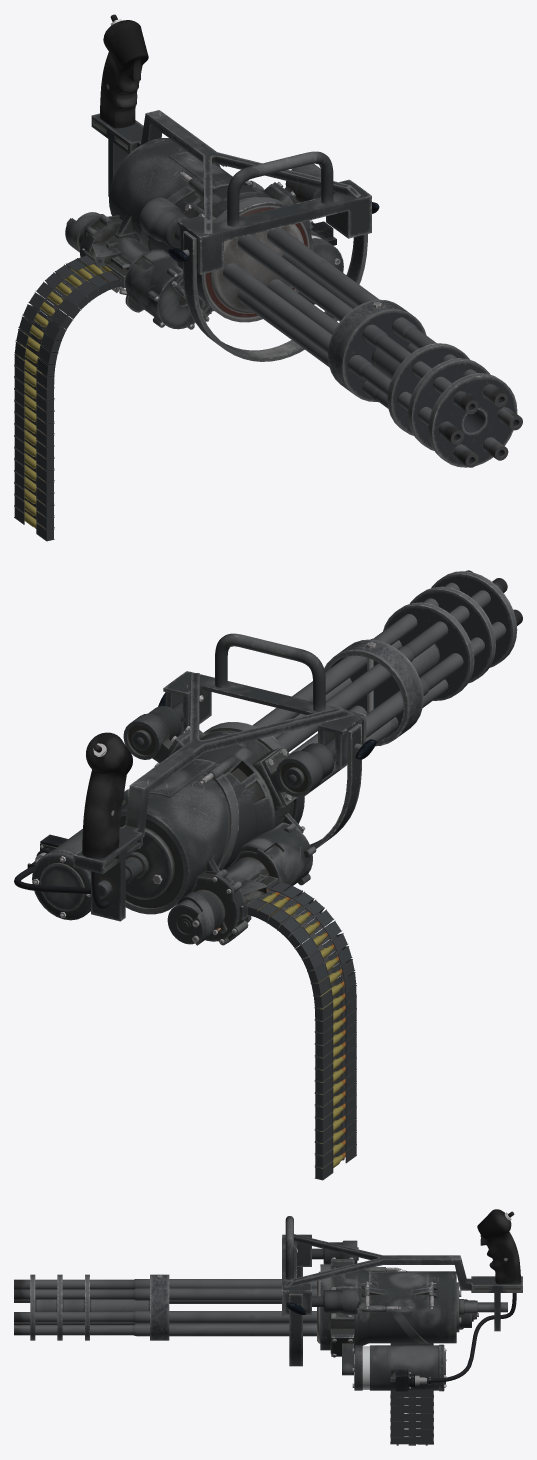
The model's file is minigun.glb.
The picture shows the model from 3 angles, top to bottom: view 1: azimuth 30°, elevation 25°; view 2: azimuth 150°, elevation 25°; view 3: azimuth 270°, elevation 25°; orthographic projection. The views are drawn at different scales.
Parts seen in each view (by area): view 1: Minigun_M-134; view 2: Minigun_M-134; view 3: Minigun_M-134.
Boxes of the visible parts, x1,y1,x2,y2 form: Minigun_M-134: (14, 14, 522, 541); Minigun_M-134: (14, 570, 522, 1180); Minigun_M-134: (14, 1209, 522, 1445).
Bounding box in the file's own units: 0.1851 × 0.259 × 0.4203.
1 material, 1 textured.
